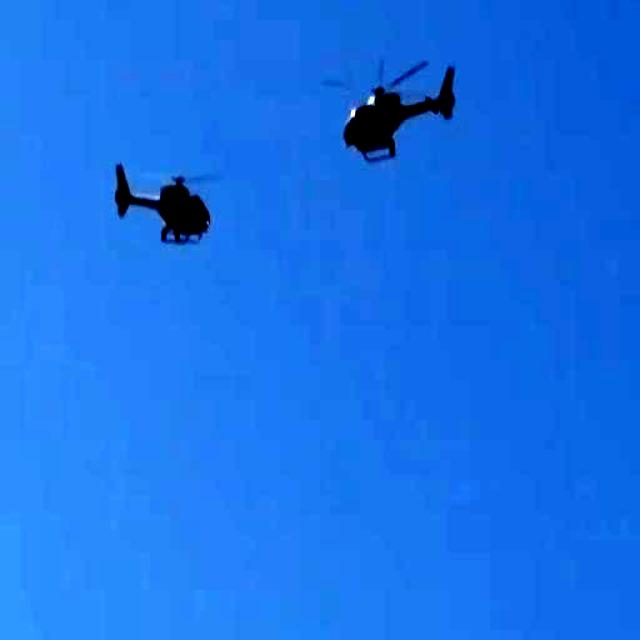drone: (330, 45, 460, 185), (114, 131, 222, 272)
